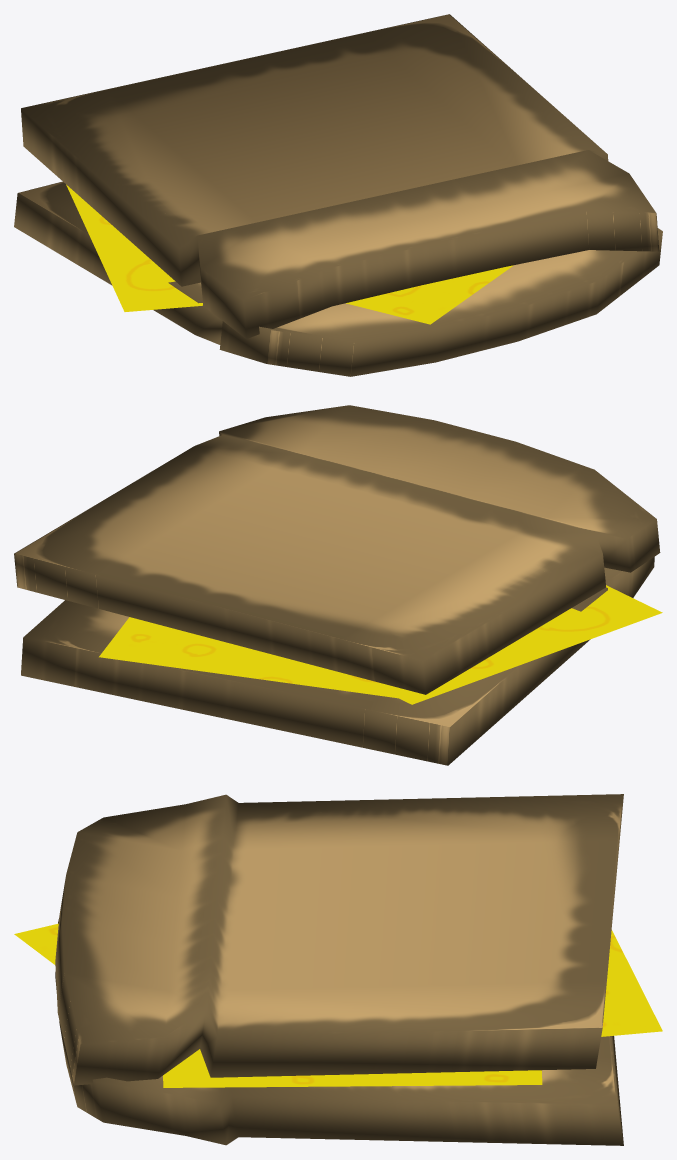
Rendered from grilledCheese.gltf.
3 renders of one model, top to bottom at view 1: azimuth 30°, elevation 25°; view 2: azimuth 150°, elevation 25°; view 3: azimuth 270°, elevation 25°, orthographic. The views are drawn at different scales.
Visible parts, largest first — view 1: Cheese.003; view 2: Cheese.003; view 3: Cheese.003.
Part boxes in pixels (box(x1,y1,x2,y2)): Cheese.003: box(14, 14, 662, 376); Cheese.003: box(14, 405, 662, 765); Cheese.003: box(14, 794, 662, 1145).
Size of the model in its own units: 3.38 by 0.7853 by 3.42.
Materials: 6 (6 with a texture image).
